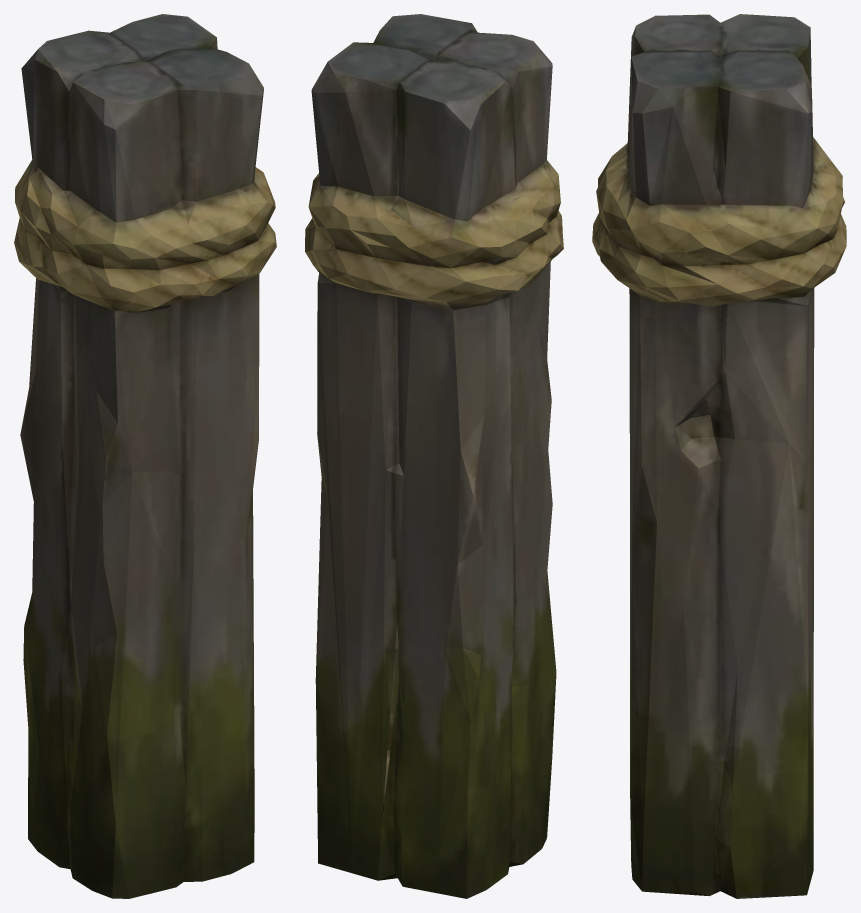
Rendered from piling.tex.glb.
The picture shows the model from 3 angles, left to right: view 1: azimuth 30°, elevation 25°; view 2: azimuth 150°, elevation 25°; view 3: azimuth 270°, elevation 25°; orthographic projection.
Visible parts, largest first — view 1: piling; view 2: piling; view 3: piling.
Boxes of the visible parts, x1=… form: piling: x1=14, y1=14, x2=276, y2=898; piling: x1=305, y1=14, x2=563, y2=898; piling: x1=592, y1=14, x2=846, y2=898.
Size of the model in its own units: 0.7566 by 2.6 by 0.7414.
Materials: 1 (1 with a texture image).
